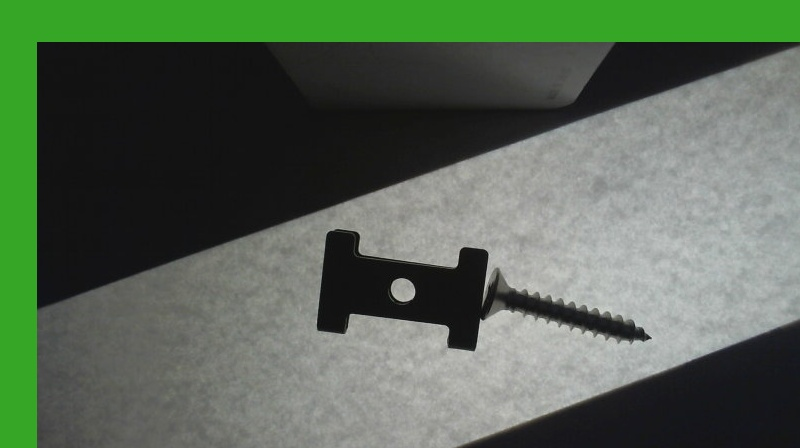O002: (312, 226, 487, 355)
S001: (476, 265, 653, 345)
